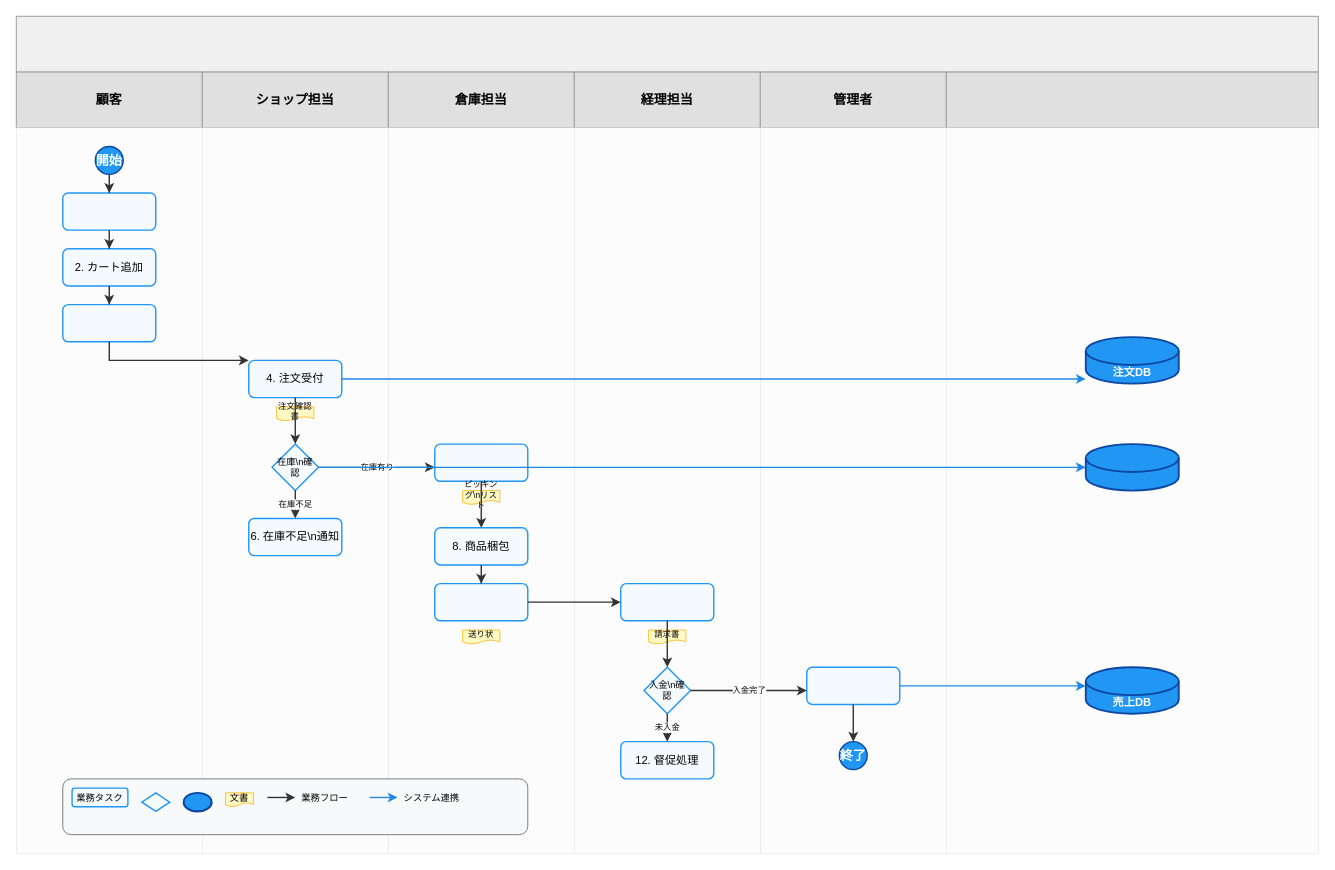
The diagram is 1335 pixels wide and 870 high, and some of its shapes have lost their labels. Here are the shapes that lost their labels. From the top down, the box of each, then its label:
(15, 15, 1318, 72): ECサイト注文処理業務フロー 作成日：2025-01-24
(945, 71, 1318, 128): システム
(62, 192, 156, 230): 1. 商品選択
(62, 303, 156, 342): 3. 注文確定
(434, 443, 528, 482): 7. ピッキング\n指示
(1084, 443, 1179, 491): 在庫DB
(434, 582, 528, 621): 9. 発送処理
(620, 582, 714, 621): 10. 請求書\n発行
(806, 666, 900, 705): 13. 売上計上
(141, 792, 170, 812): 判断
(182, 791, 212, 812): DB
